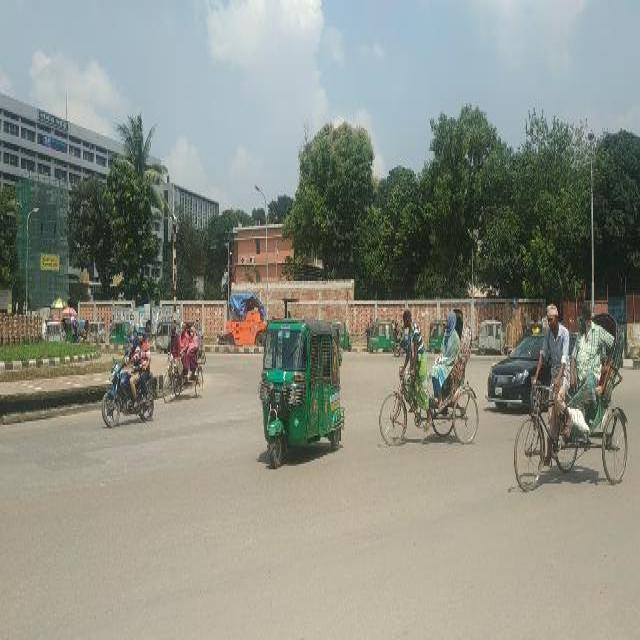bike: (101, 356, 156, 429), (217, 332, 228, 346)
vehicle: (514, 300, 630, 495), (380, 309, 479, 451), (259, 315, 347, 469), (164, 322, 204, 402), (484, 353, 539, 410), (477, 319, 508, 355), (368, 317, 395, 353), (110, 320, 133, 347), (428, 319, 444, 355), (155, 318, 170, 352), (88, 319, 106, 344), (49, 322, 68, 345), (144, 319, 155, 342), (79, 318, 88, 345)
